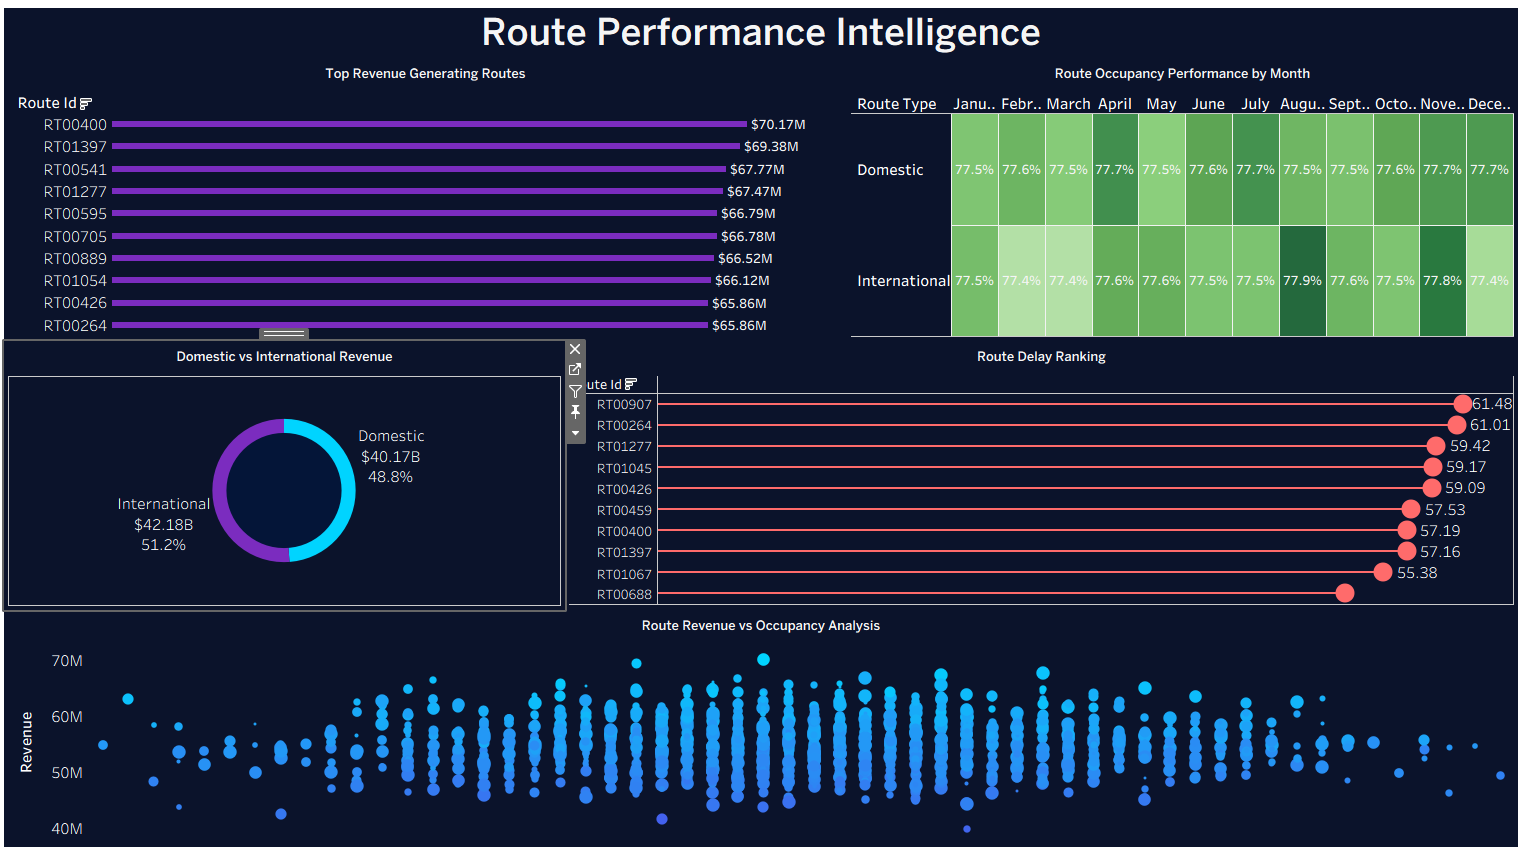

The page's visual inventory and layout, read from the dashboard file:
{"tool":"tableau","page":{"name":"Route Performance Intelligence","canvas":[1530,855],"ordinal":6},"visuals":[{"type":"title","box":[8,8,1514,50]},{"type":"dashboard-object","box":[21,15,106,39]},{"type":"worksheet","title":"Top Routes by Revenue","mark":"Bar","rows":["route_id"],"cols":["revenue"],"box":[8,58,843,283]},{"type":"worksheet","title":"Route Occupancy Performance by Month","mark":"Square","rows":["route_type"],"cols":["month_name"],"box":[851,58,671,283]},{"type":"worksheet","title":"Domestic vs International Revenue","mark":"Pie","rows":["Calculation_1997820878884867","Calculation_1997820878946309"],"box":[8,341,561,269]},{"type":"worksheet","title":"Route Delay Ranking","mark":"Bar","rows":["route_id"],"cols":["delay_minutes","delay_minutes"],"box":[569,341,953,269]},{"type":"worksheet","title":"Route Revenue vs Occupancy Analysis","mark":"Circle","rows":["revenue"],"cols":["Calculation_1774625632514048"],"box":[8,610,1514,237]}]}

Visuals, with their boxes in screenshot pixels (x1, y1, x2, y2), scaled from the page's 1530x855 canvas onto the 1525x852 screenshot:
title: (8,8,1517,58)
dashboard-object: (21,15,127,54)
"Top Routes by Revenue" worksheet (Bar marks): (8,58,848,340)
"Route Occupancy Performance by Month" worksheet (Square marks): (848,58,1517,340)
"Domestic vs International Revenue" worksheet (Pie marks): (8,340,567,608)
"Route Delay Ranking" worksheet (Bar marks): (567,340,1517,608)
"Route Revenue vs Occupancy Analysis" worksheet (Circle marks): (8,608,1517,844)
